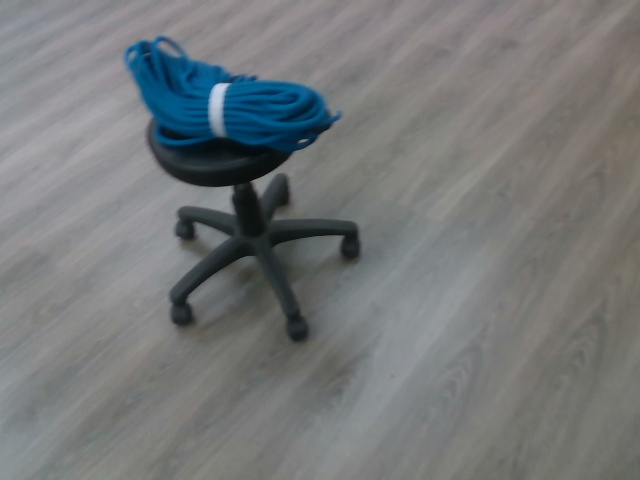rope: (120, 32, 345, 156)
